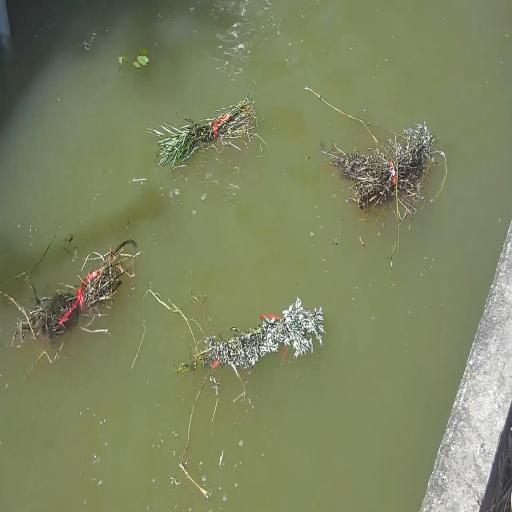twig: (176, 284, 315, 395), (336, 111, 435, 230), (142, 80, 259, 178), (23, 243, 131, 329), (121, 48, 162, 76)
